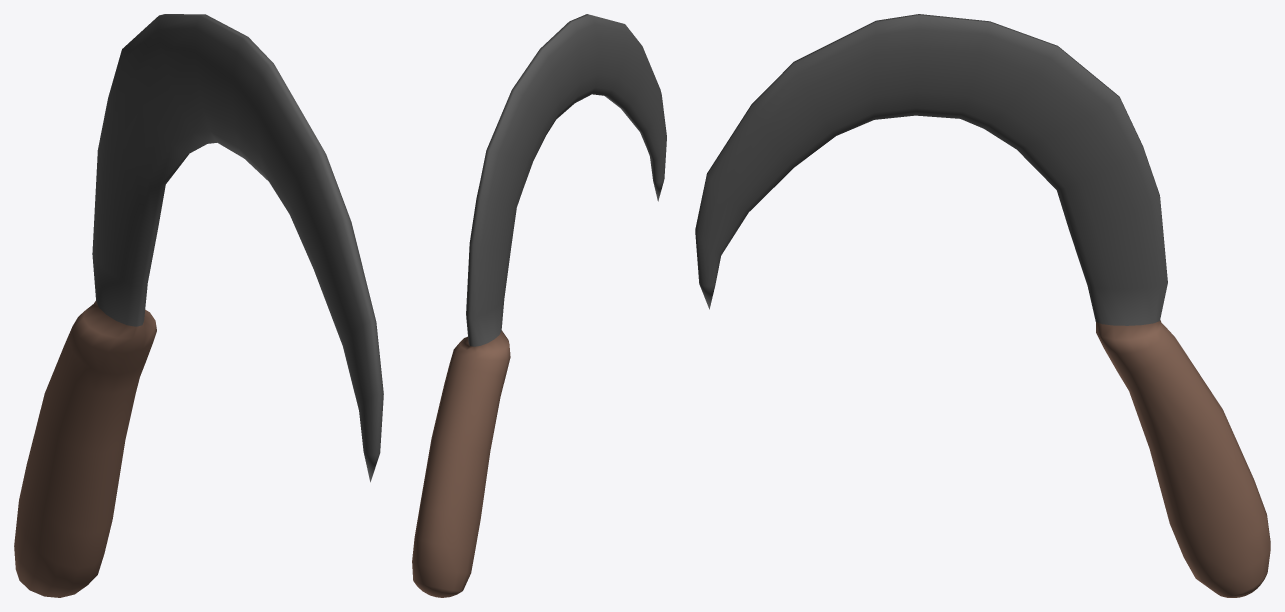
File: Sickle UV.fbx
3 views of the same model, side by side, from view 1: azimuth 30°, elevation 25°; view 2: azimuth 150°, elevation 25°; view 3: azimuth 270°, elevation 25° (orthographic). The views are drawn at different scales.
Visible parts, largest first — view 1: pSphere3_pSphere3Shape; view 2: pSphere3_pSphere3Shape; view 3: pSphere3_pSphere3Shape.
Part boxes in pixels (bbox=[...]): pSphere3_pSphere3Shape: bbox=[14, 14, 383, 597]; pSphere3_pSphere3Shape: bbox=[412, 14, 666, 597]; pSphere3_pSphere3Shape: bbox=[695, 14, 1270, 597].
Size of the model in its own units: 4.32 by 39.24 by 35.36.
